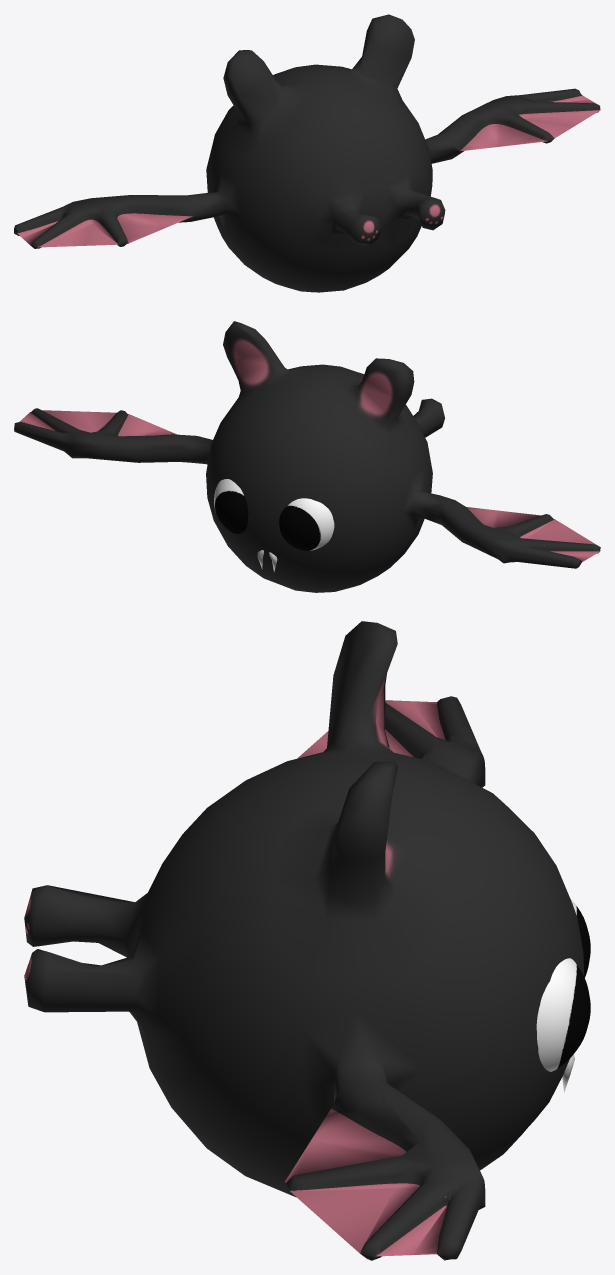
The model's file is Bat.obj.
3 views of the same model, one above another, from view 1: azimuth 30°, elevation 25°; view 2: azimuth 150°, elevation 25°; view 3: azimuth 270°, elevation 25° (orthographic). The views are drawn at different scales.
Visible parts, largest first — view 1: Body_Sphere.002; view 2: Body_Sphere.002, Eyes_Sphere.003; view 3: Body_Sphere.002, Eyes_Sphere.003.
Boxes of the visible parts, box(x1,y1,x2,y2) form: Body_Sphere.002: box(14, 14, 600, 292); Body_Sphere.002: box(14, 321, 600, 592); Eyes_Sphere.003: box(214, 479, 334, 550); Body_Sphere.002: box(24, 621, 584, 1260); Eyes_Sphere.003: box(536, 898, 590, 1071).
Bounding box in the file's own units: 5.74 × 2.36 × 2.47.
